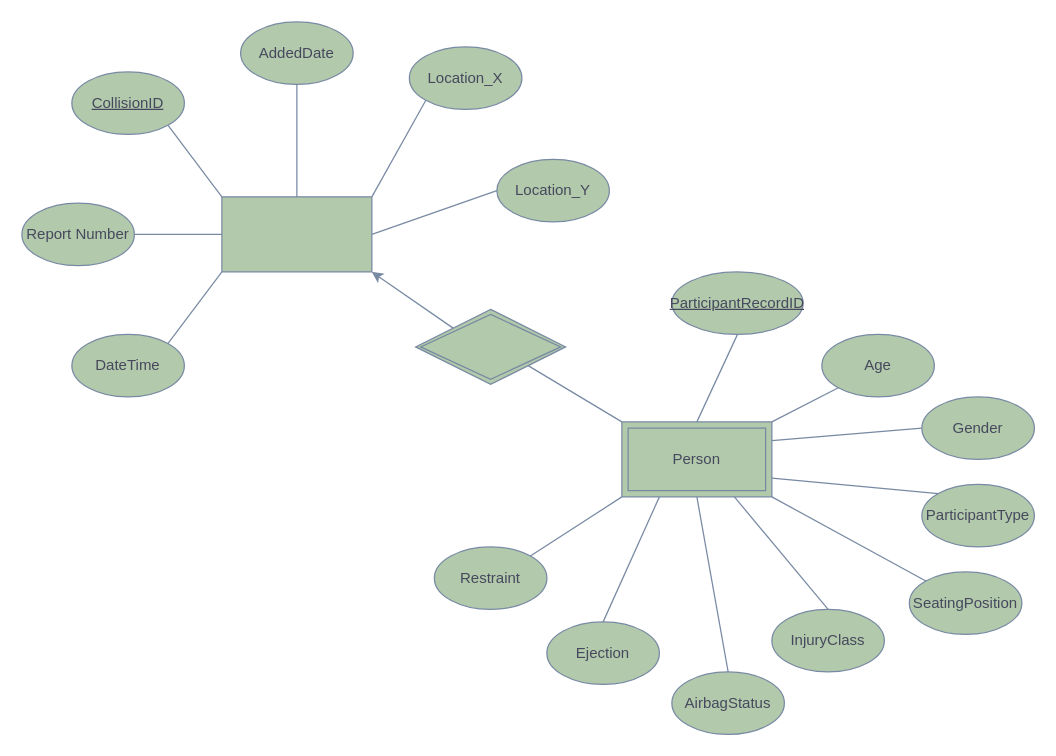
The diagram is 1056 pixels wide and 756 high, and some of its shapes have lost their labels. The shapes that lost their labels are listed below. From the top down, each one's centre as x and y in pixels, then its label:
At pixel 296 234: "Collision".
At pixel 490 346: "Involved In".
